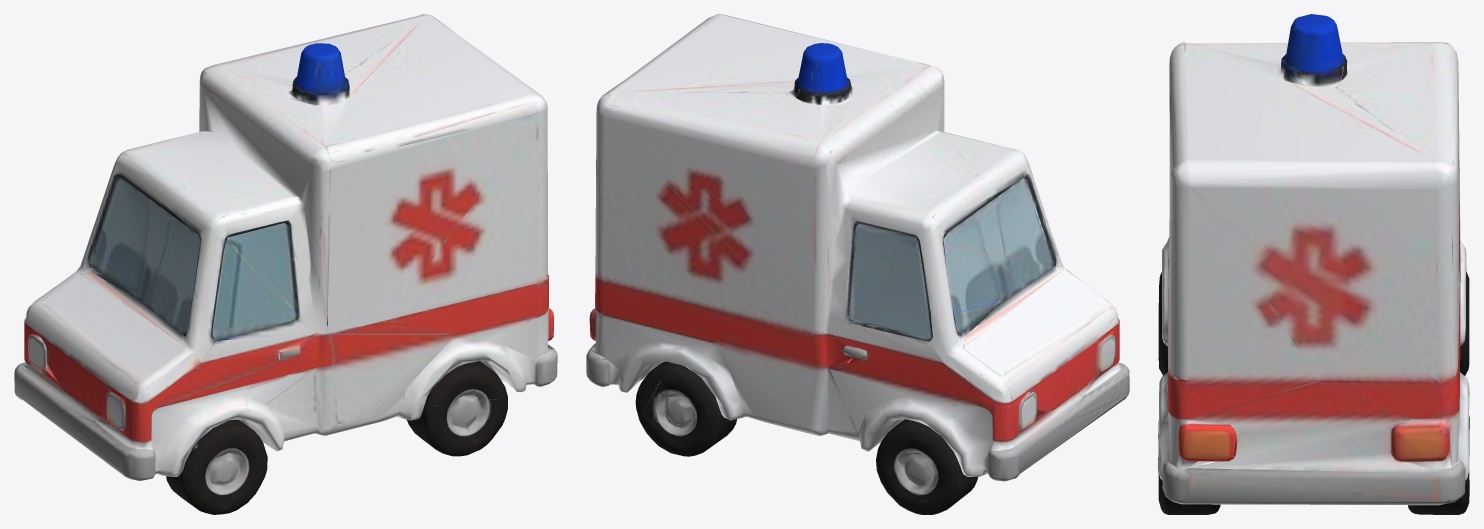
File: ambulance-512.glb
3 views of the same model, side by side, from view 1: azimuth 30°, elevation 25°; view 2: azimuth 150°, elevation 25°; view 3: azimuth 270°, elevation 25° (orthographic). The views are drawn at different scales.
Size of the model in its own units: 1.9 by 1.6 by 1.02.
Materials: 1 (1 with a texture image).
